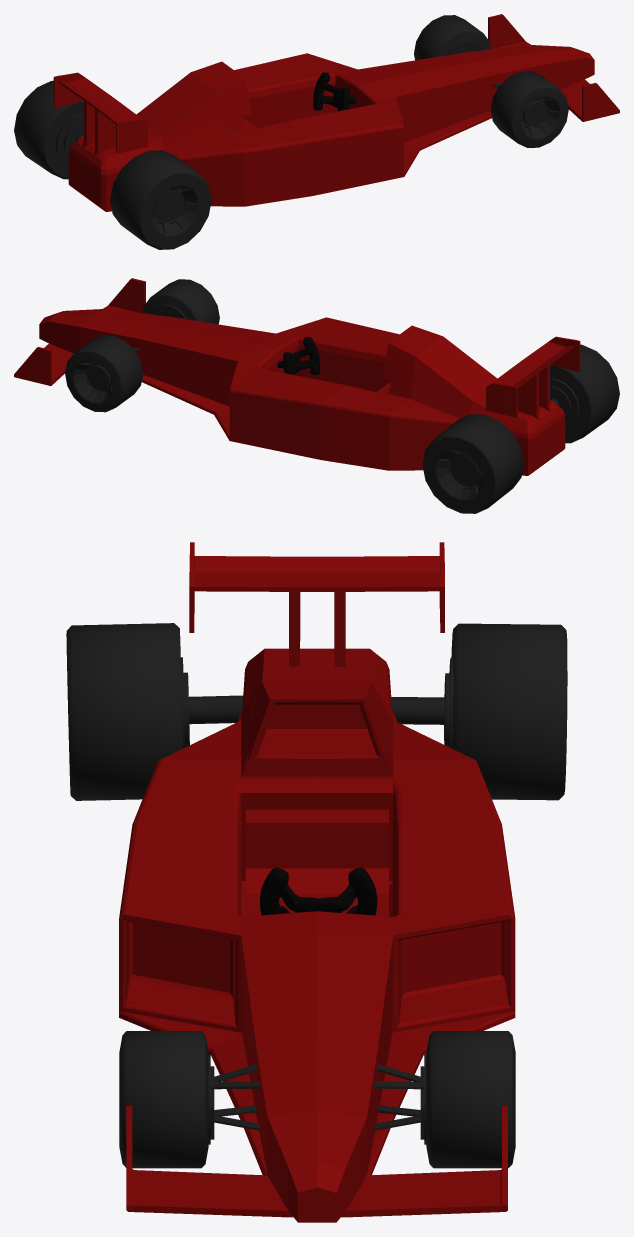
The picture shows the model from 3 angles, top to bottom: view 1: azimuth 30°, elevation 25°; view 2: azimuth 150°, elevation 25°; view 3: azimuth 270°, elevation 25°; orthographic projection. The views are drawn at different scales.
Parts seen in each view (by area): view 1: Cylinder2_cut9_default7, Cylinder2_cut9_default4, Cylinder2_cut9_default2, Cylinder2_cut9_default5, Cylinder2_cut9_default6, Cylinder2_cut9_default3; view 2: Cylinder2_cut9_default7, Cylinder2_cut9_default5, Cylinder2_cut9_default6, Cylinder2_cut9_default4, Cylinder2_cut9_default2, Cylinder2_cut9_default3; view 3: Cylinder2_cut9_default7, Cylinder2_cut9_default5, Cylinder2_cut9_default4, Cylinder2_cut9_default2, Cylinder2_cut9_default6, Cylinder2_cut9_default3.
Part boxes in pixels (x1,y1,x2,y2): Cylinder2_cut9_default7: (53, 14, 619, 211); Cylinder2_cut9_default4: (110, 150, 211, 249); Cylinder2_cut9_default2: (490, 71, 568, 147); Cylinder2_cut9_default5: (14, 80, 83, 179); Cylinder2_cut9_default6: (414, 15, 491, 60); Cylinder2_cut9_default3: (313, 72, 355, 111); Cylinder2_cut9_default7: (14, 278, 580, 475); Cylinder2_cut9_default5: (422, 414, 523, 513); Cylinder2_cut9_default6: (65, 335, 143, 412); Cylinder2_cut9_default4: (550, 344, 619, 443); Cylinder2_cut9_default2: (142, 279, 219, 324); Cylinder2_cut9_default3: (277, 337, 319, 375); Cylinder2_cut9_default7: (119, 542, 515, 1222); Cylinder2_cut9_default5: (391, 623, 567, 800); Cylinder2_cut9_default4: (66, 623, 243, 800); Cylinder2_cut9_default2: (119, 1031, 260, 1168); Cylinder2_cut9_default6: (374, 1031, 515, 1168); Cylinder2_cut9_default3: (260, 867, 377, 915).
Size of the model in its own units: 6 by 1.24 by 2.53.
